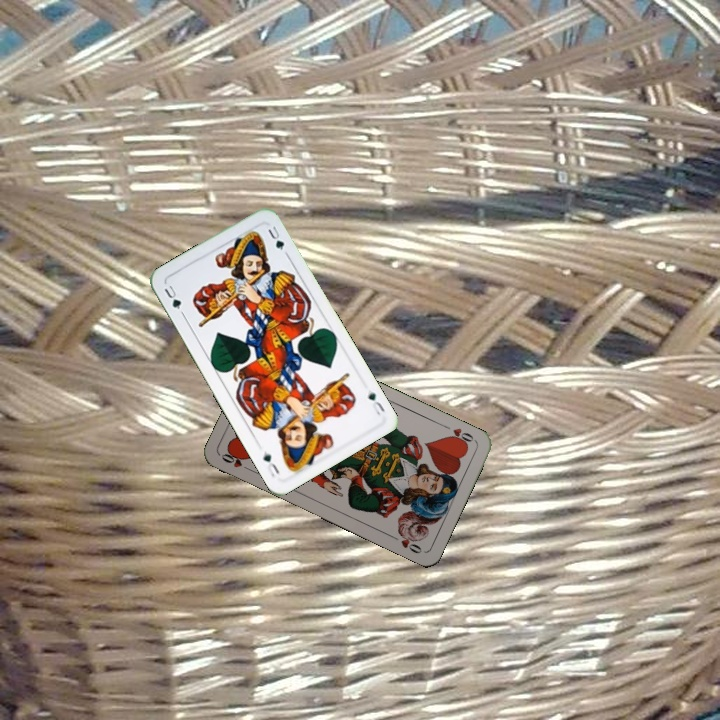GU: (160, 281, 184, 312), (364, 387, 388, 418)
HO: (439, 421, 478, 448), (217, 448, 255, 474)
